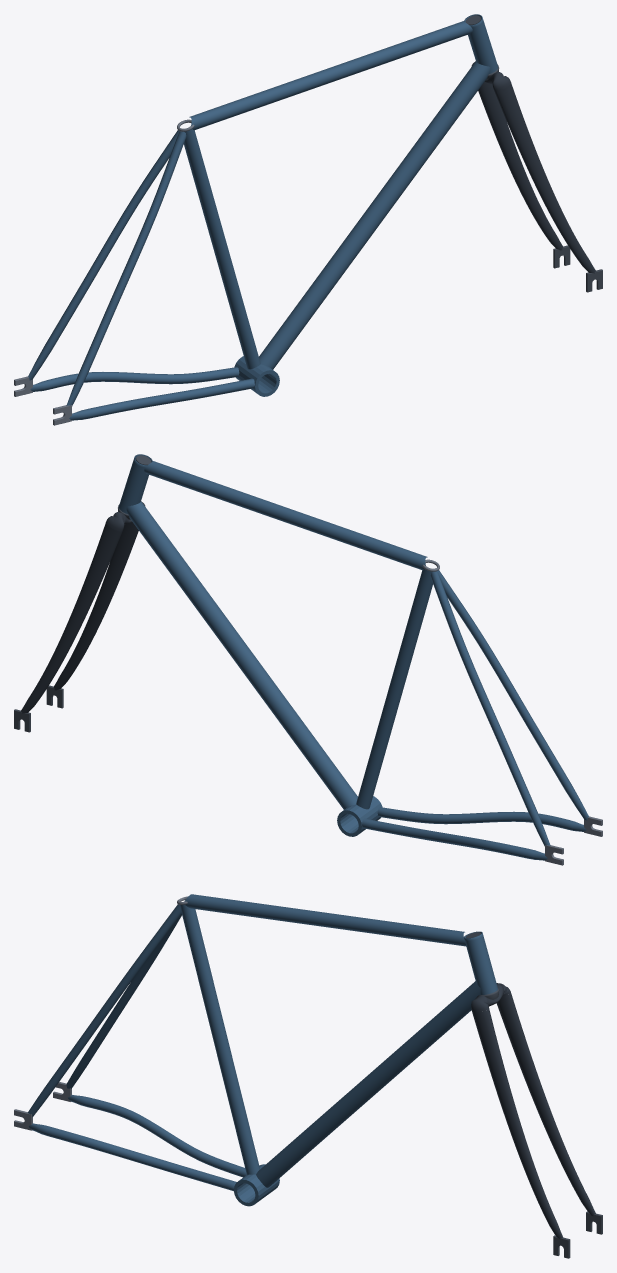
File: dosnoventa-01-bcn-s.glb
3 views of the same model, one above another, from view 1: azimuth 30°, elevation 25°; view 2: azimuth 150°, elevation 25°; view 3: azimuth 330°, elevation 25° (orthographic).
Parts seen in each view (by area): view 1: paint_down, paint_top, paint_seat, fork_blade_1, paint_seatstay_1, paint_seatstay_-1, fork_blade_-1, paint_chainstay_-1, paint_chainstay_1, paint_bottom_bracket, paint_head; view 2: paint_down, paint_top, paint_seat, fork_blade_-1, paint_seatstay_-1, paint_seatstay_1, fork_blade_1, paint_chainstay_1, paint_chainstay_-1, paint_bottom_bracket, paint_head; view 3: paint_down, paint_top, paint_seat, fork_blade_1, fork_blade_-1, paint_seatstay_1, paint_chainstay_1, paint_chainstay_-1, paint_seatstay_-1, paint_head, paint_bottom_bracket.
Part boxes in pixels (<box>): paint_down: <box>259,61,490,369</box>; paint_top: <box>189,21,472,130</box>; paint_seat: <box>184,129,260,369</box>; fork_blade_1: <box>494,83,595,273</box>; paint_seatstay_1: <box>66,131,186,406</box>; paint_seatstay_-1: <box>28,130,179,380</box>; fork_blade_-1: <box>478,82,563,250</box>; paint_chainstay_-1: <box>30,367,239,391</box>; paint_chainstay_1: <box>69,378,254,420</box>; paint_bottom_bracket: <box>234,356,279,396</box>; paint_head: <box>464,14,497,73</box>; paint_down: <box>126,501,357,809</box>; paint_top: <box>144,461,427,570</box>; paint_seat: <box>356,569,432,809</box>; fork_blade_-1: <box>21,523,122,713</box>; paint_seatstay_-1: <box>430,571,550,846</box>; paint_seatstay_1: <box>437,570,588,820</box>; fork_blade_1: <box>53,522,138,690</box>; paint_chainstay_1: <box>377,807,586,831</box>; paint_chainstay_-1: <box>362,818,547,860</box>; paint_bottom_bracket: <box>337,796,382,836</box>; paint_head: <box>119,454,152,513</box>; paint_down: <box>256,981,480,1187</box>; paint_top: <box>184,894,466,946</box>; paint_seat: <box>180,904,260,1174</box>; fork_blade_1: <box>472,1009,563,1239</box>; fork_blade_-1: <box>496,993,595,1216</box>; paint_seatstay_1: <box>27,904,181,1117</box>; paint_chainstay_1: <box>29,1123,236,1191</box>; paint_chainstay_-1: <box>68,1095,246,1177</box>; paint_seatstay_-1: <box>66,913,181,1088</box>; paint_head: <box>464,931,497,994</box>; paint_bottom_bracket: <box>234,1164,279,1206</box>.
Bounding box in the file's own units: 1.02 × 0.5625 × 0.1444.
